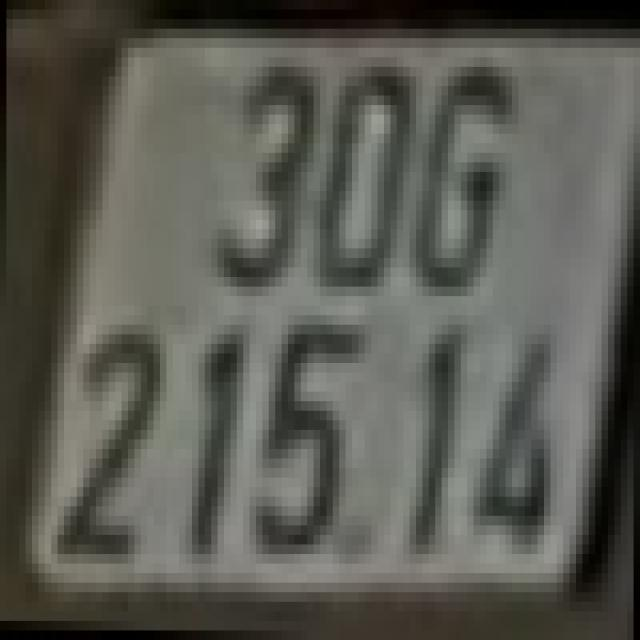0: (314, 57, 409, 287)
1: (396, 324, 474, 554), (182, 324, 246, 554)
2: (58, 315, 160, 564)
3: (211, 57, 314, 287)
4: (474, 324, 564, 564)
5: (255, 315, 358, 554)
G: (416, 57, 512, 287)
